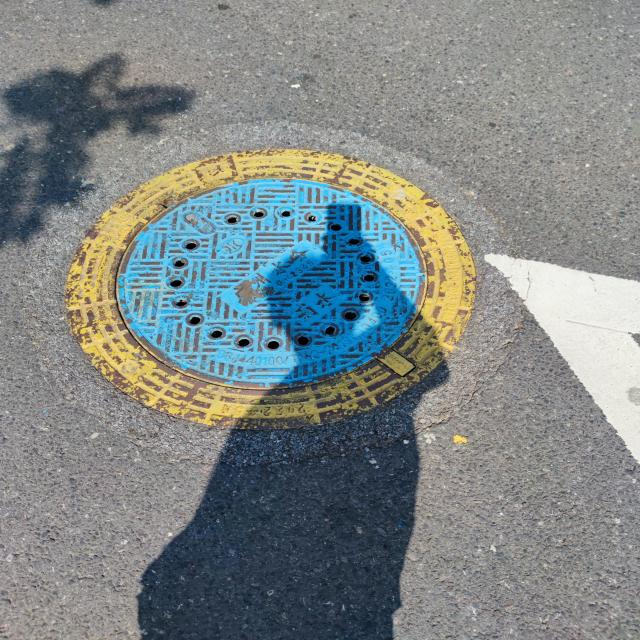Good: (67, 144, 487, 434)
